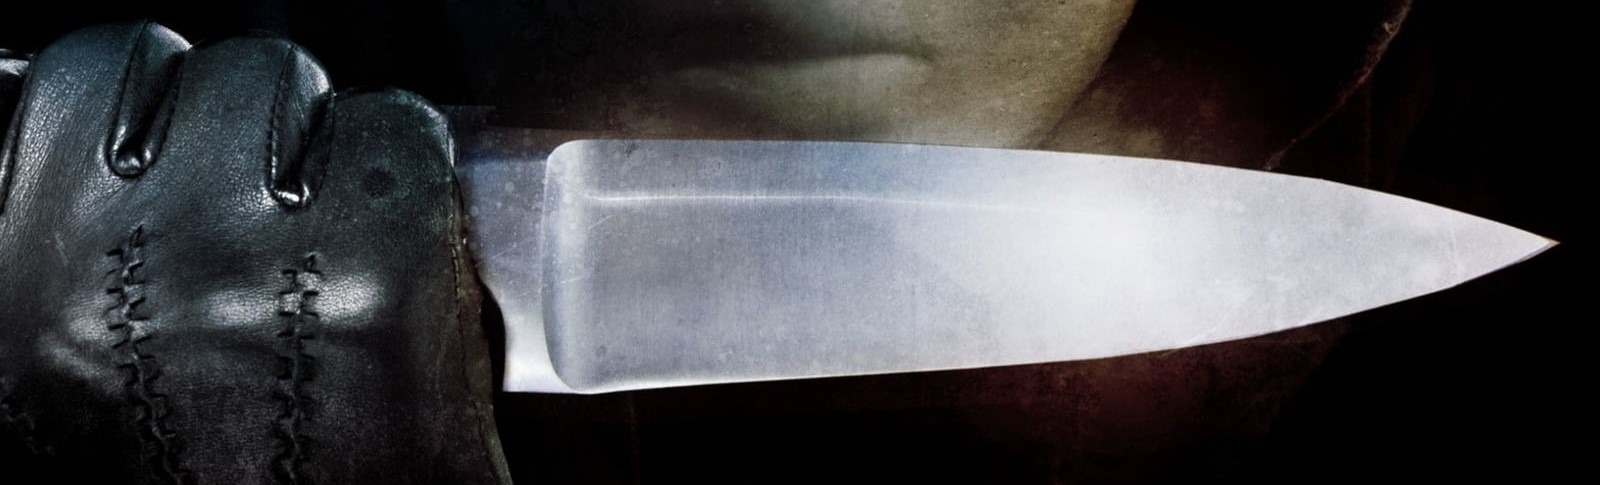knife: (273, 98, 1565, 397)
